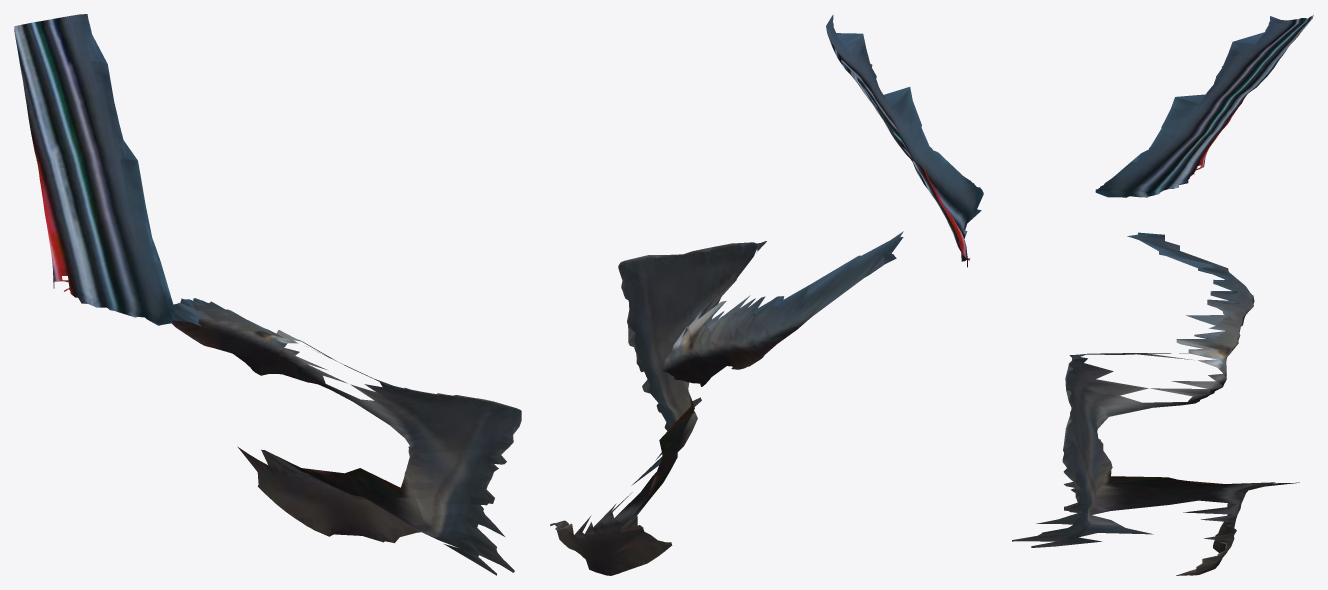
Rendered from observed-surface.glb.
3 renders of one model, left to right at view 1: azimuth 30°, elevation 25°; view 2: azimuth 150°, elevation 25°; view 3: azimuth 270°, elevation 25°, orthographic. The views are drawn at different scales.
Visible parts, largest first — view 1: geometry_0; view 2: geometry_0; view 3: geometry_0.
Part boxes in pixels (x1=…): geometry_0: x1=14, y1=14, x2=521, y2=575; geometry_0: x1=550, y1=14, x2=983, y2=575; geometry_0: x1=1012, y1=14, x2=1313, y2=575.
Size of the model in its own units: 0.4268 by 0.5945 by 0.3549.
1 material, 1 textured.
